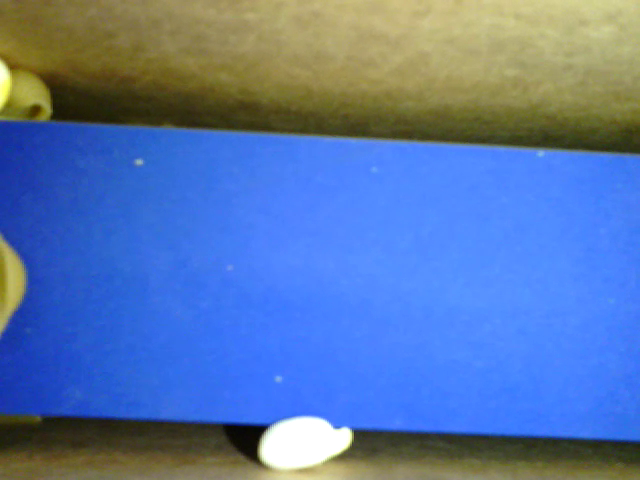shell: (5, 66, 56, 123), (3, 226, 28, 336)
